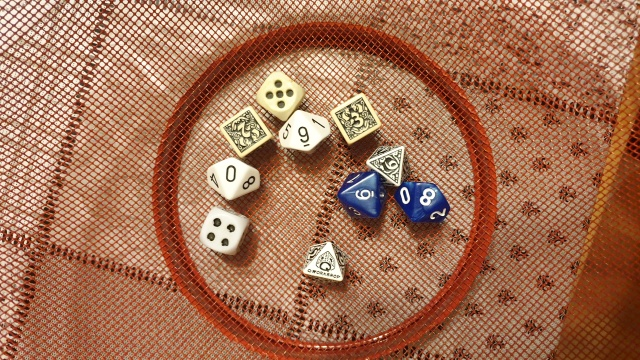d10-10: (201, 156, 265, 201)
d10-6: (336, 167, 389, 219)
d10-8: (394, 172, 452, 228)
d10-9: (272, 107, 331, 155)
d6-4: (197, 206, 251, 257)
d6-5: (255, 65, 306, 122)
d6p-2: (216, 104, 274, 159)
d6p-3: (327, 93, 383, 145)
d8p-6: (365, 143, 414, 188)
d8p-8: (298, 238, 352, 290)
